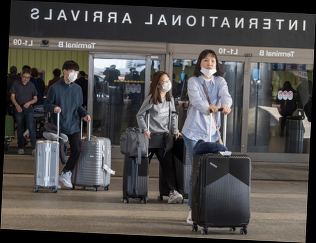mask_weared_incorrect: (201, 56, 218, 79)
with_mask: (159, 76, 173, 95), (66, 68, 79, 84)
without_mask: (21, 73, 31, 84)
